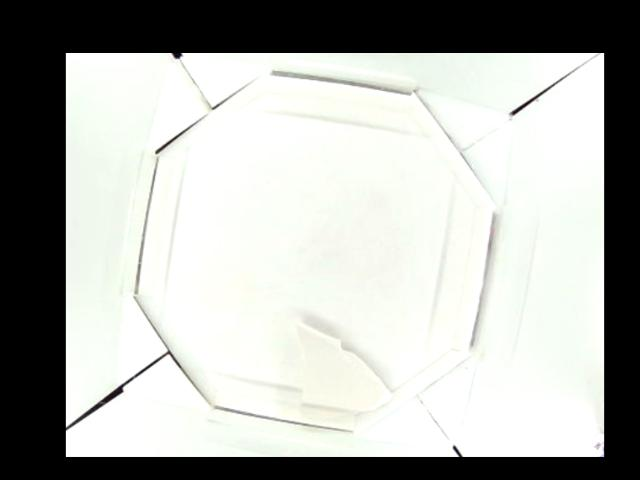China: (285, 321, 389, 422)
